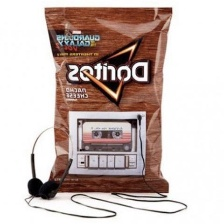snack: (37, 1, 180, 198)
